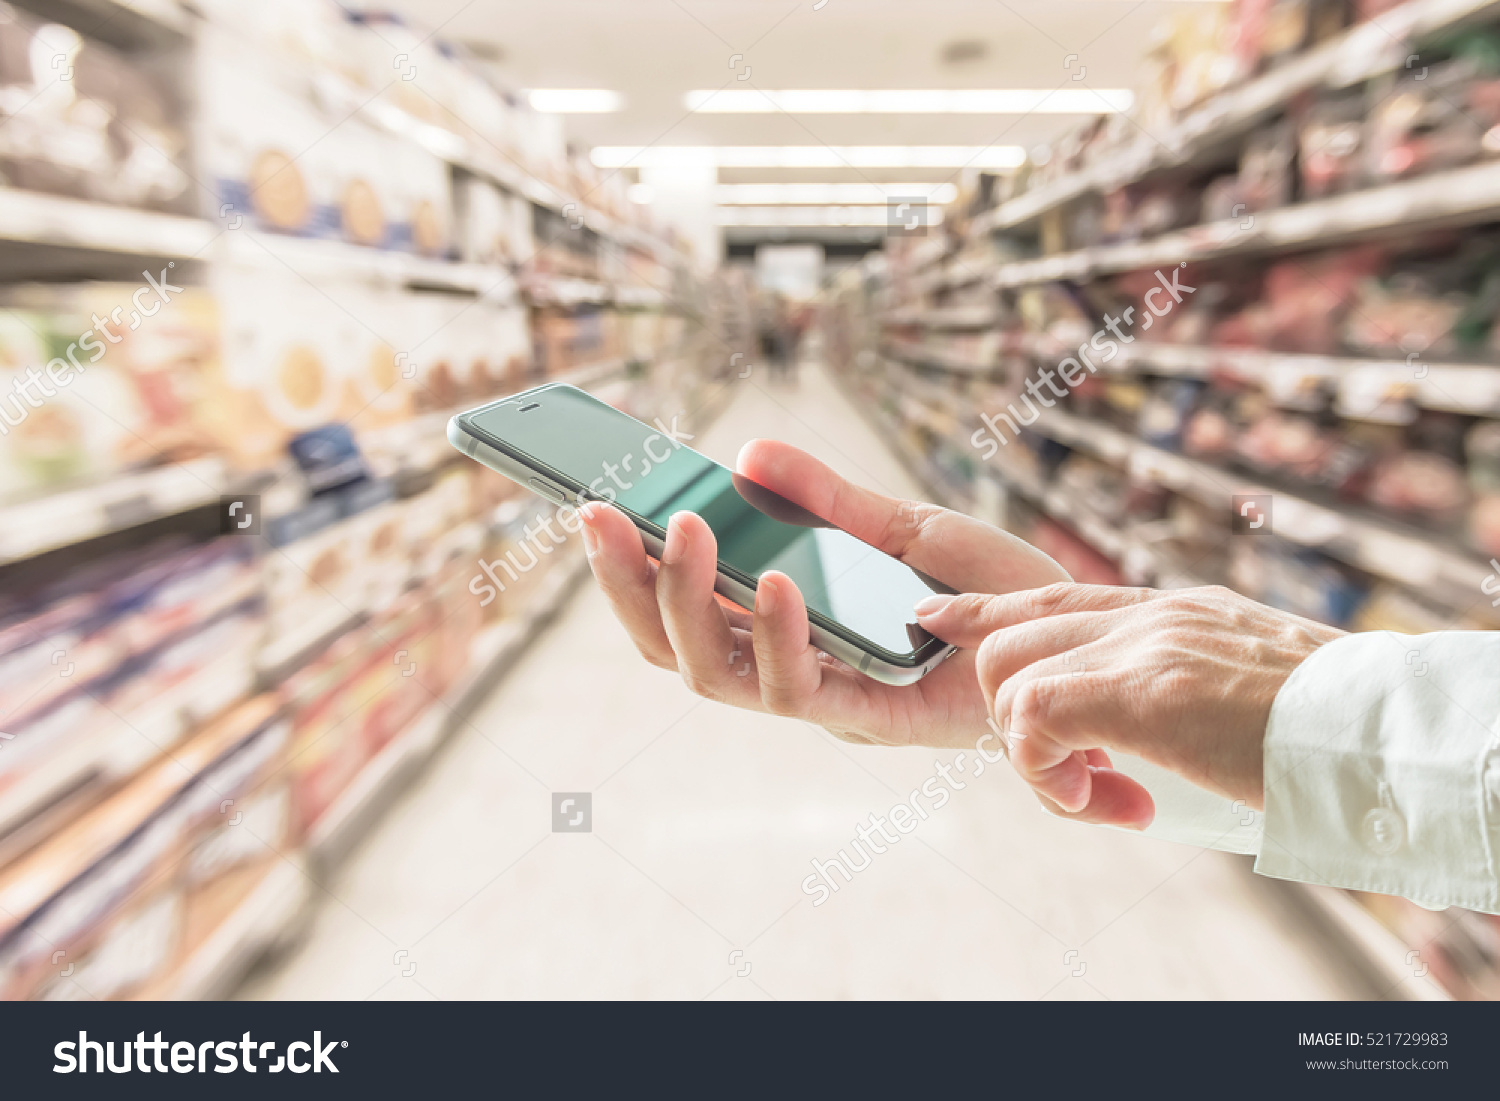smartphone: (446, 379, 972, 689)
